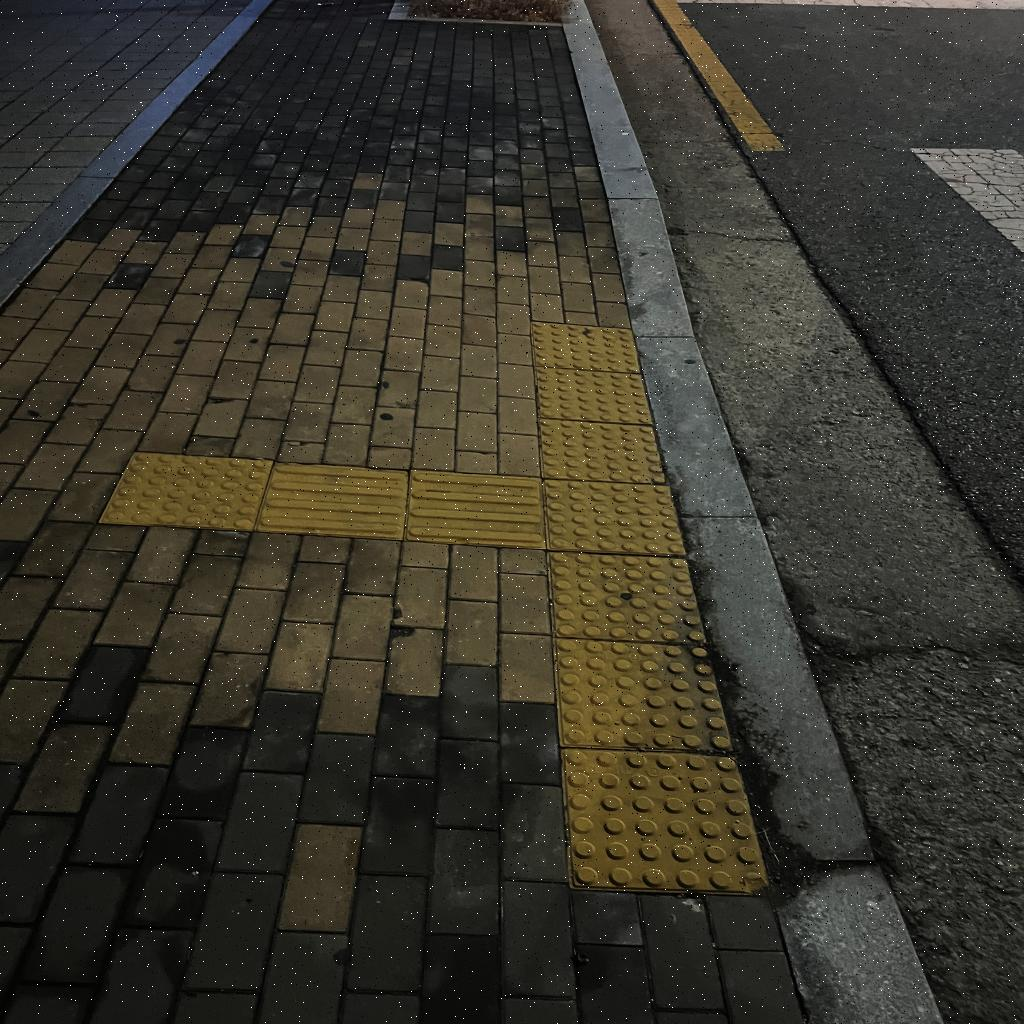Stop block normal: (556, 749, 775, 895), (550, 639, 740, 753), (545, 553, 709, 644), (99, 450, 272, 533), (539, 480, 689, 556), (535, 419, 672, 486), (533, 368, 652, 423)
Straight block normal: (257, 462, 408, 540), (406, 470, 550, 549)
